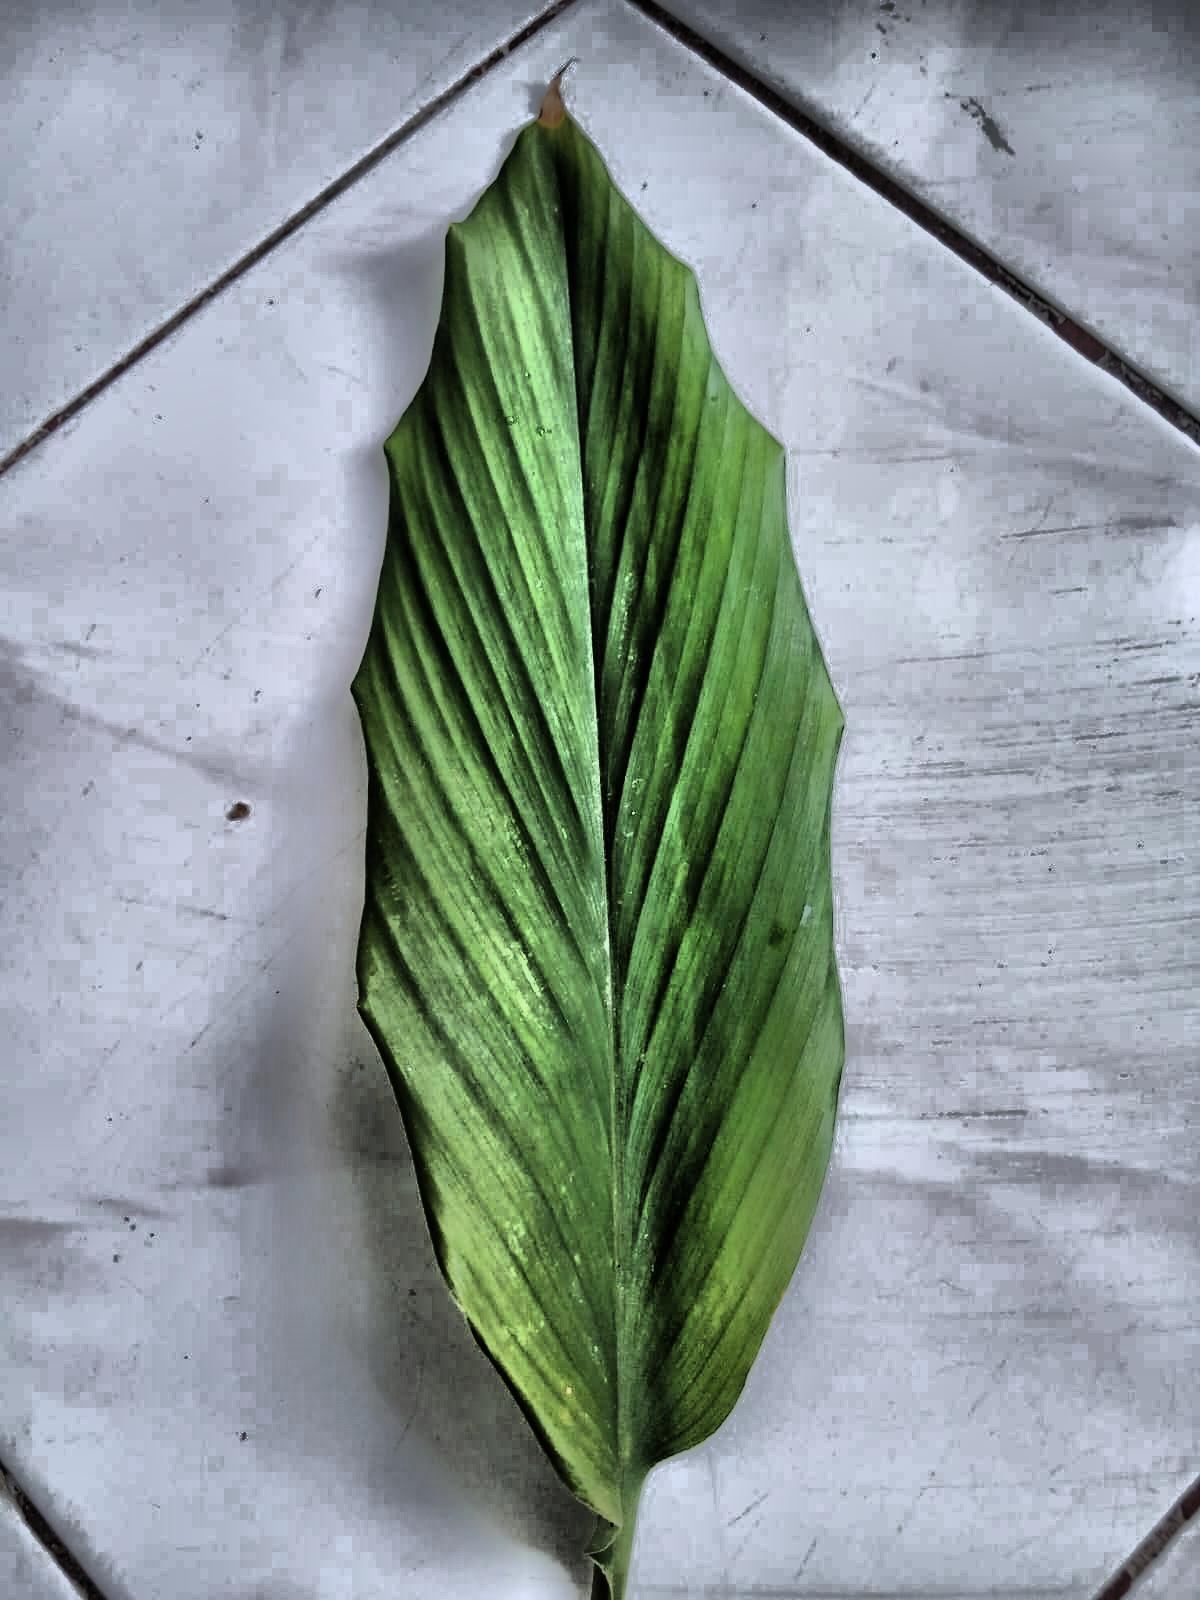daun kunyit: (352, 86, 845, 1599)
